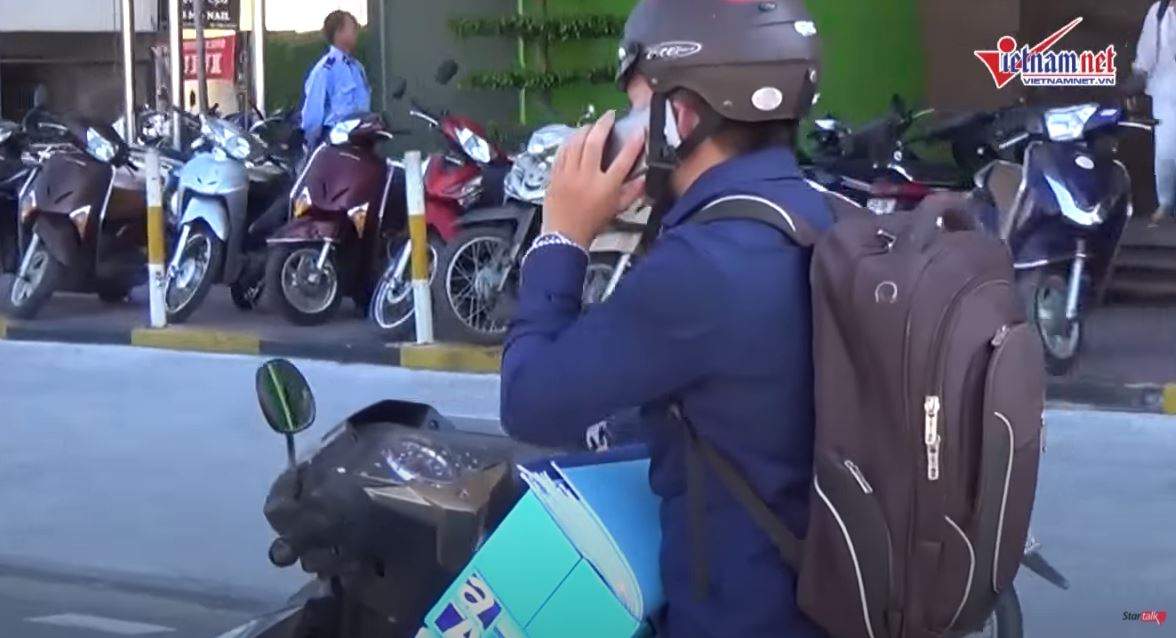dieu khien xe may: (262, 5, 826, 638)
su dung dien thoai: (541, 1, 819, 238)
